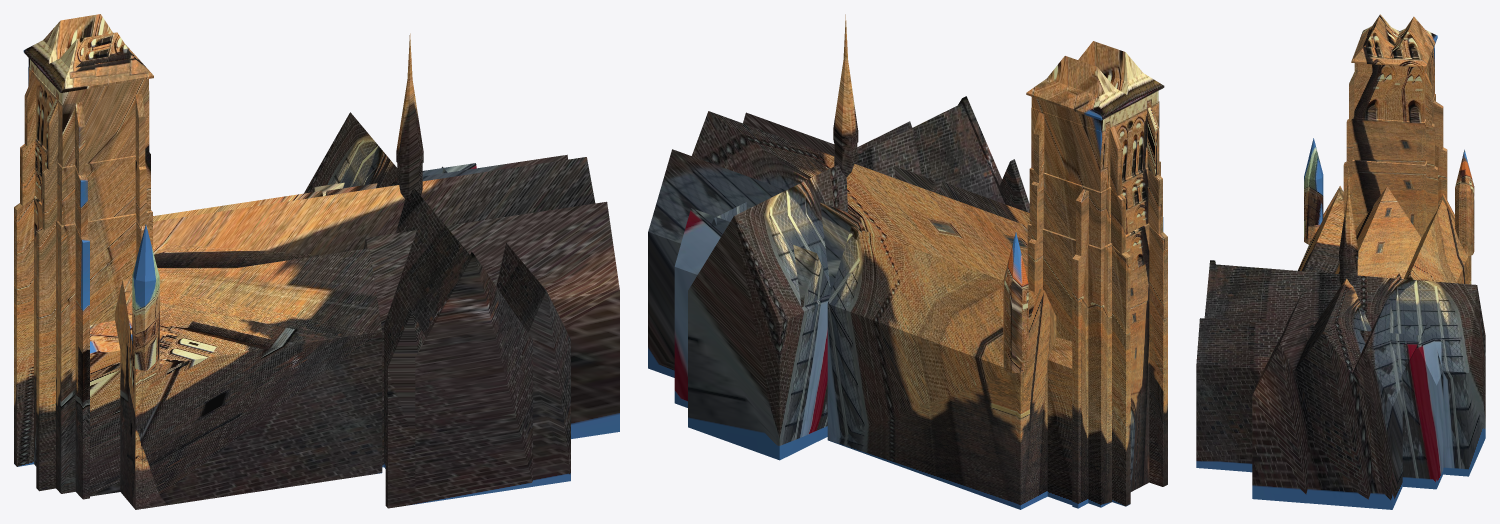
File: Curch.glb
3 renders of one model, left to right at view 1: azimuth 30°, elevation 25°; view 2: azimuth 150°, elevation 25°; view 3: azimuth 270°, elevation 25°, orthographic. The views are drawn at different scales.
Visible parts, largest first — view 1: map_5.osm_buildings; view 2: map_5.osm_buildings; view 3: map_5.osm_buildings.
Boxes of the visible parts, box(x1,y1,x2,y2) form: map_5.osm_buildings: box(14, 14, 619, 509); map_5.osm_buildings: box(648, 14, 1167, 509); map_5.osm_buildings: box(1196, 14, 1485, 509).
Size of the model in its own units: 105 by 84 by 68.28.
1 material, 1 textured.
